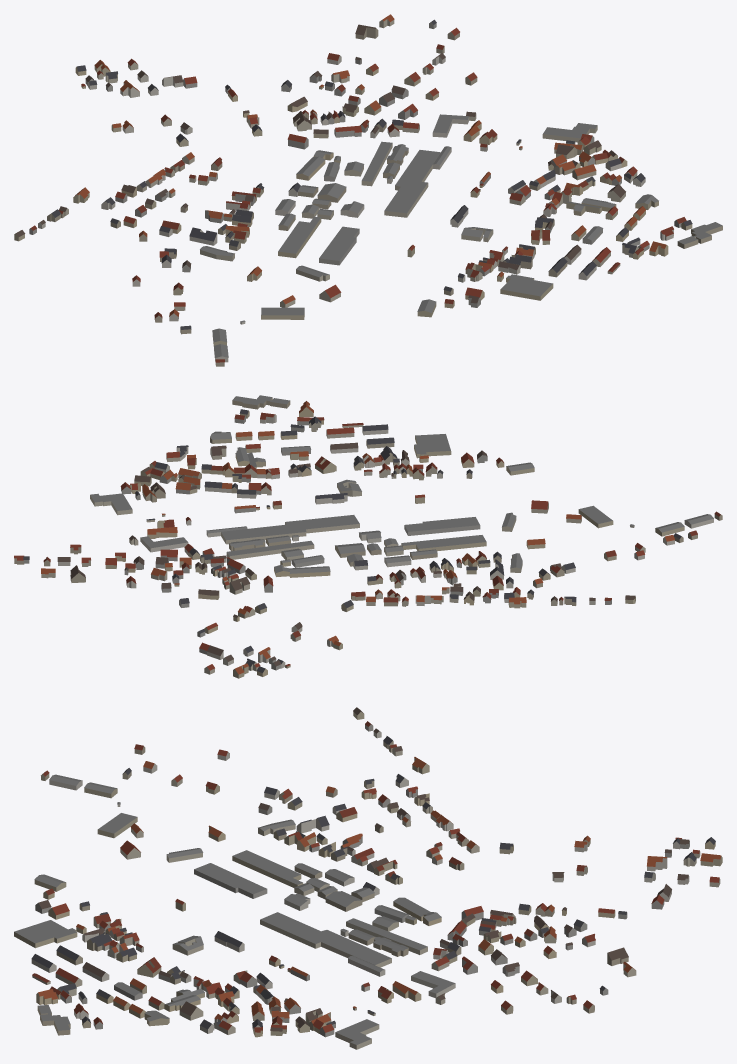
3 views of the same model, one above another, from view 1: azimuth 30°, elevation 25°; view 2: azimuth 150°, elevation 25°; view 3: azimuth 270°, elevation 25° (orthographic). The views are drawn at different scales.
Visible parts, largest first — view 1: buildings; view 2: buildings; view 3: buildings.
Boxes of the visible parts, left/top/right/bottom form: buildings: left=14, top=14, right=722, bottom=366; buildings: left=14, top=395, right=722, bottom=678; buildings: left=14, top=707, right=722, bottom=1049.
Size of the model in its own units: 820 by 59.16 by 813.
